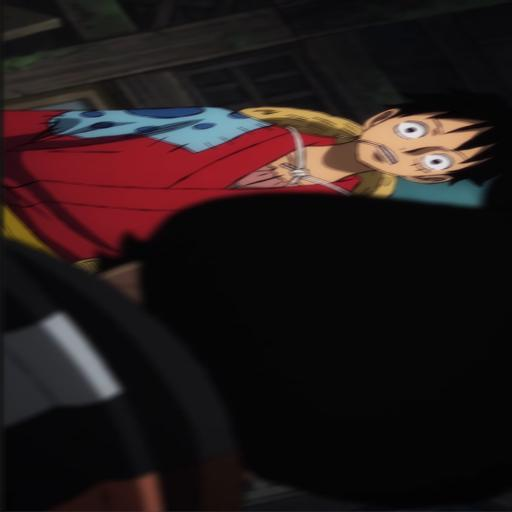Luffy: (0, 89, 497, 264)
